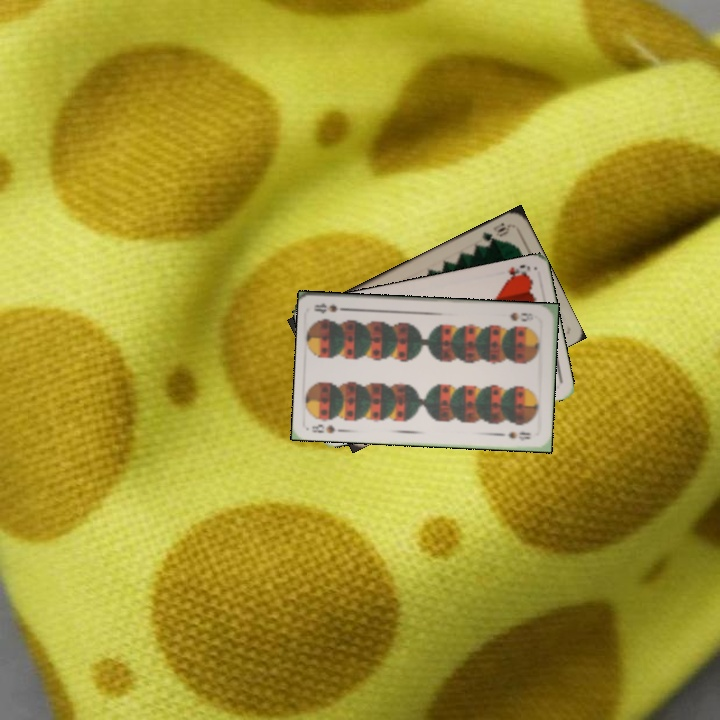G10: (478, 220, 513, 245)
HO: (503, 261, 533, 283)
S8: (308, 420, 338, 436), (506, 308, 535, 324)
